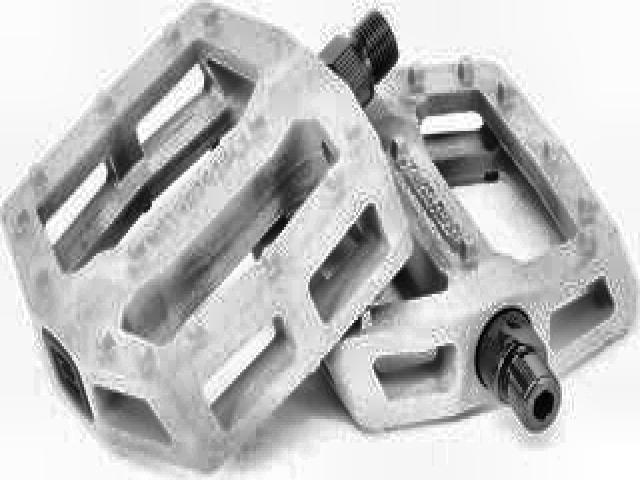pedal: (7, 5, 414, 463), (240, 6, 640, 433)
